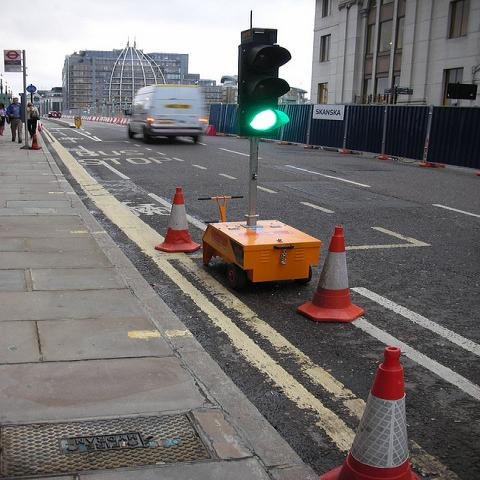truck: (128, 84, 210, 144)
